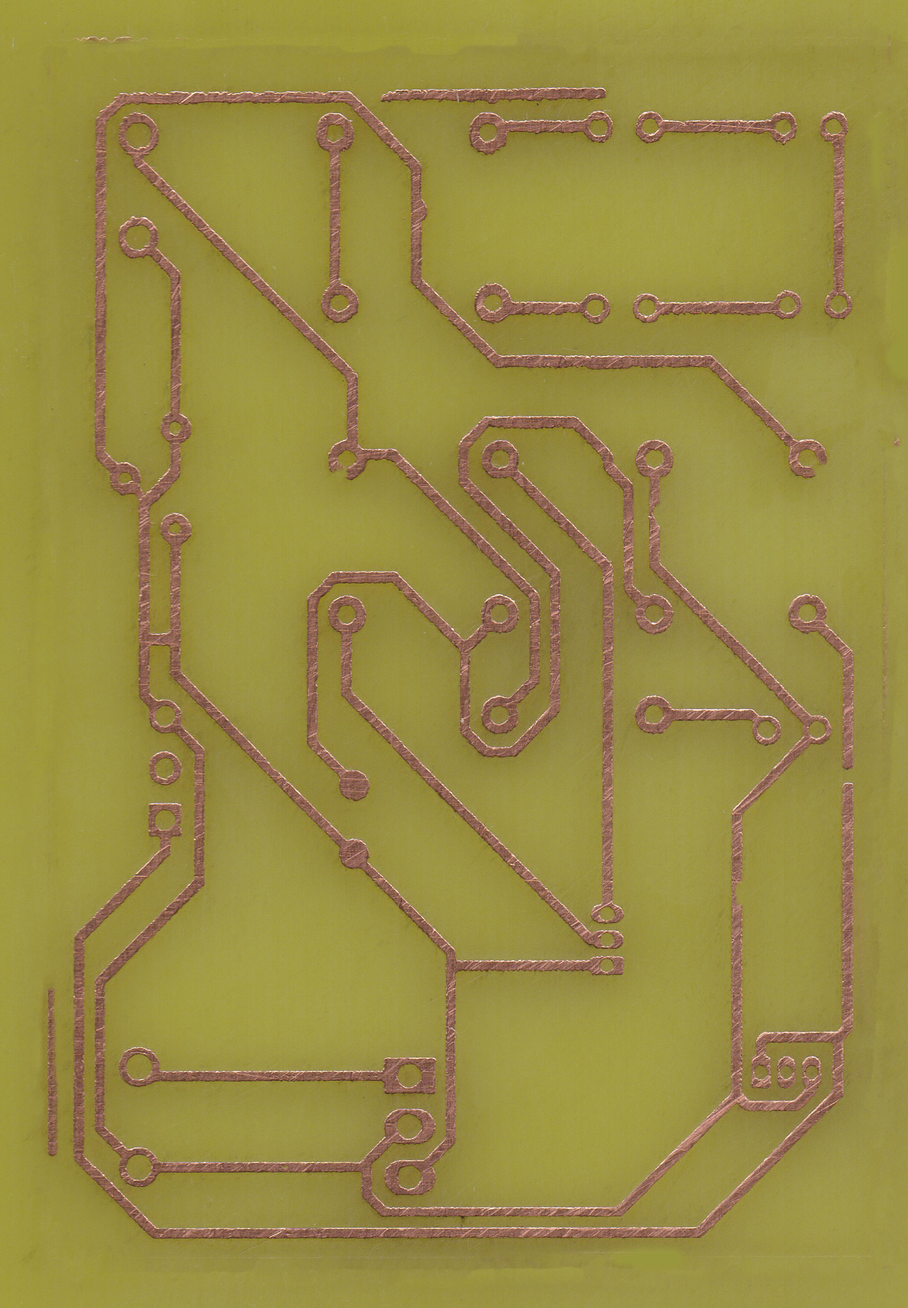missing_hole: (786, 438, 830, 481), (326, 438, 367, 484)
mouse_bite: (730, 872, 751, 914)
open_circuit: (837, 757, 858, 796)
short: (133, 623, 185, 655)
spur: (408, 195, 433, 226)
spurious_copper: (377, 83, 613, 107), (42, 983, 64, 1162)
